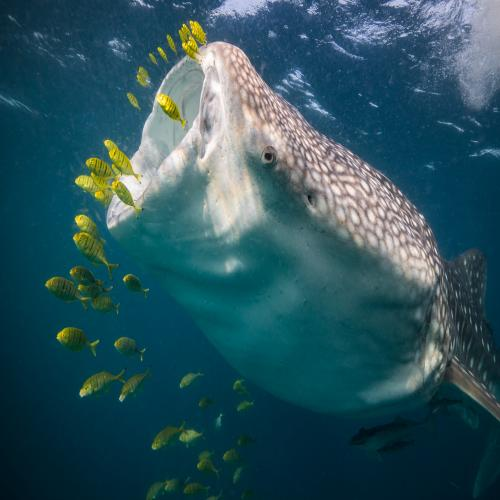shark-endangered: (105, 40, 500, 420)
